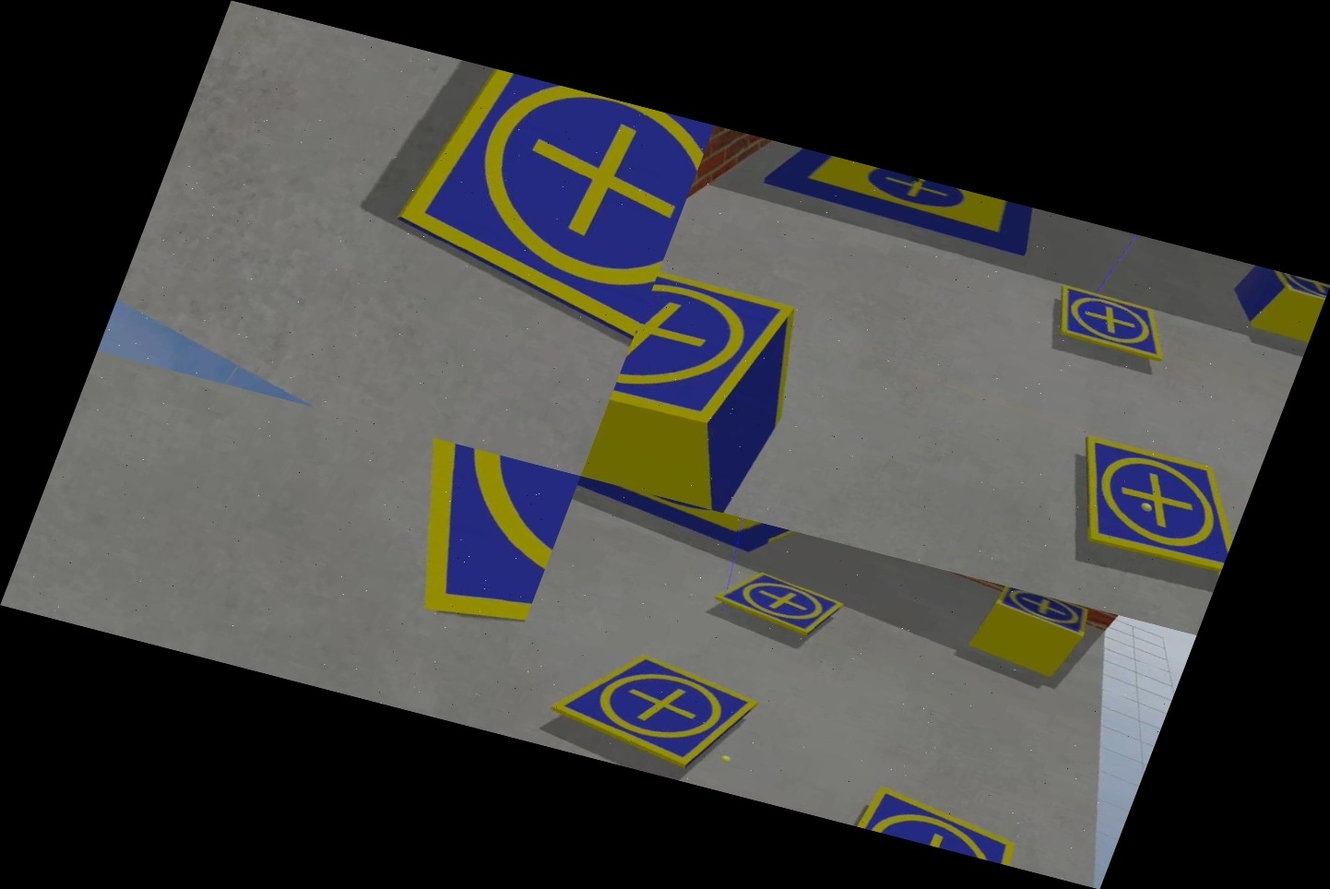large_base: (754, 142, 1051, 272), (567, 476, 812, 570)
small_base: (365, 58, 714, 355), (261, 412, 580, 666), (601, 254, 806, 457), (1032, 420, 1260, 587), (538, 630, 768, 783), (842, 777, 1054, 872), (1037, 277, 1186, 369), (709, 561, 850, 646), (988, 585, 1095, 638), (1246, 266, 1330, 310)
